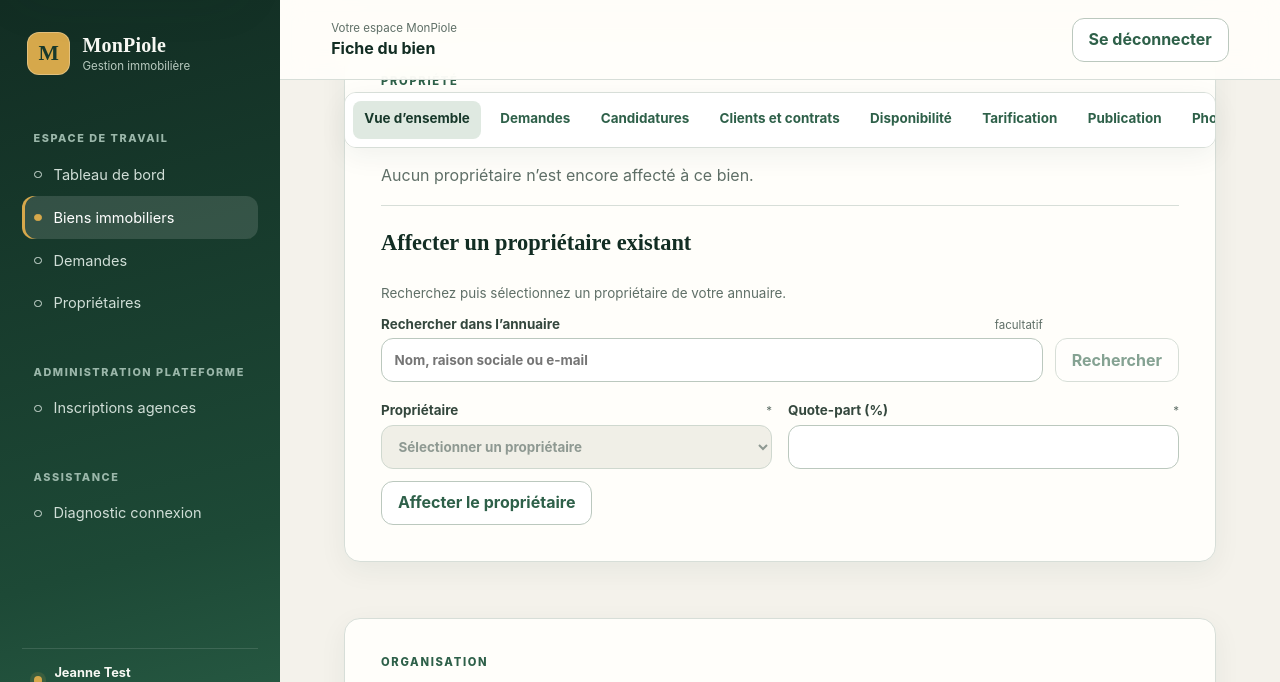
Test case: vertical slice Web Property › gère une recherche sans résultat dans le sélecteur
(page scrolled)
Type "Introuvable" into the field labelled "Rechercher dans l’annuaire" at coordinates (712, 360), box [381,338,1043,382]
(page scrolled)
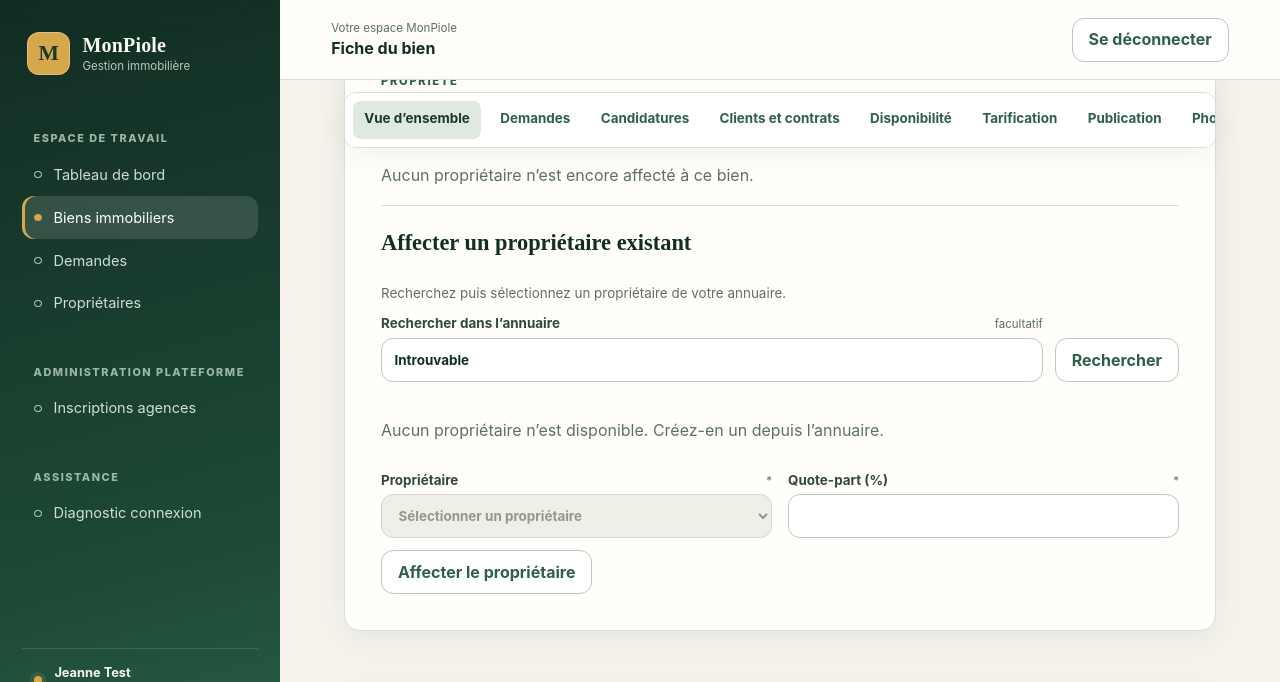
Click the button "Rechercher" at coordinates (1117, 360), box [1055,338,1179,382]
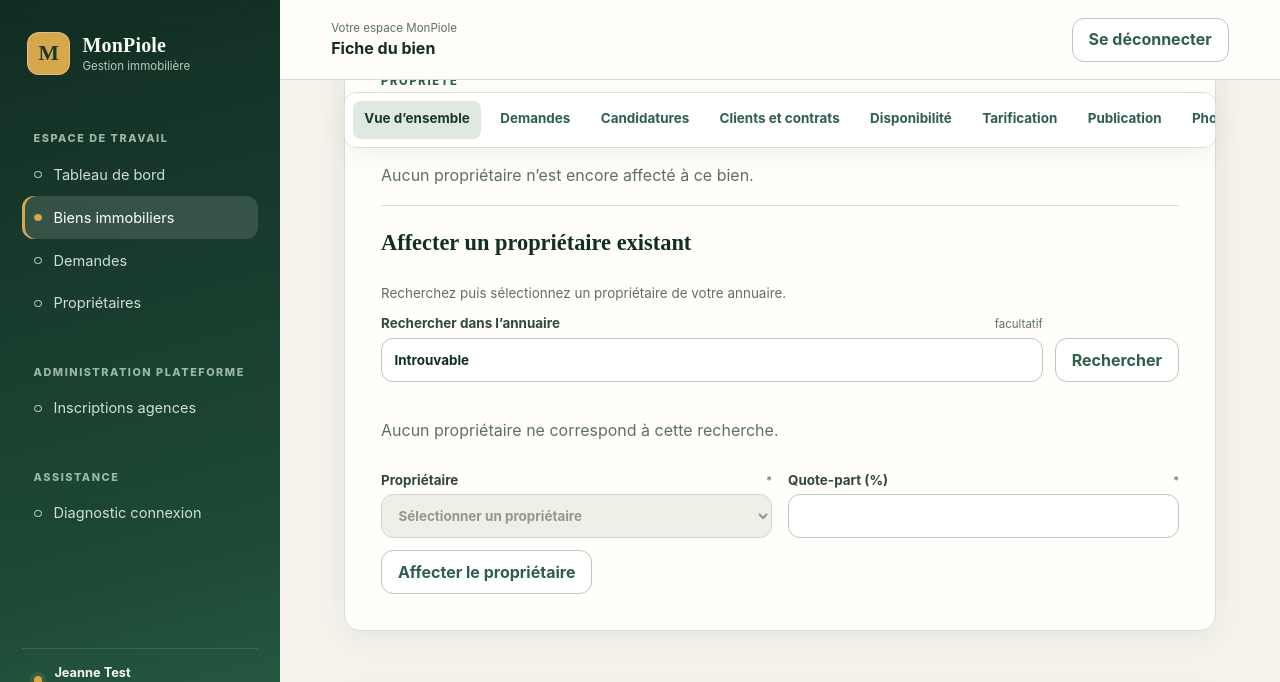
Check: the text "Aucun propriétaire ne correspond à cette recherche." is shown, box [381,420,778,440]
